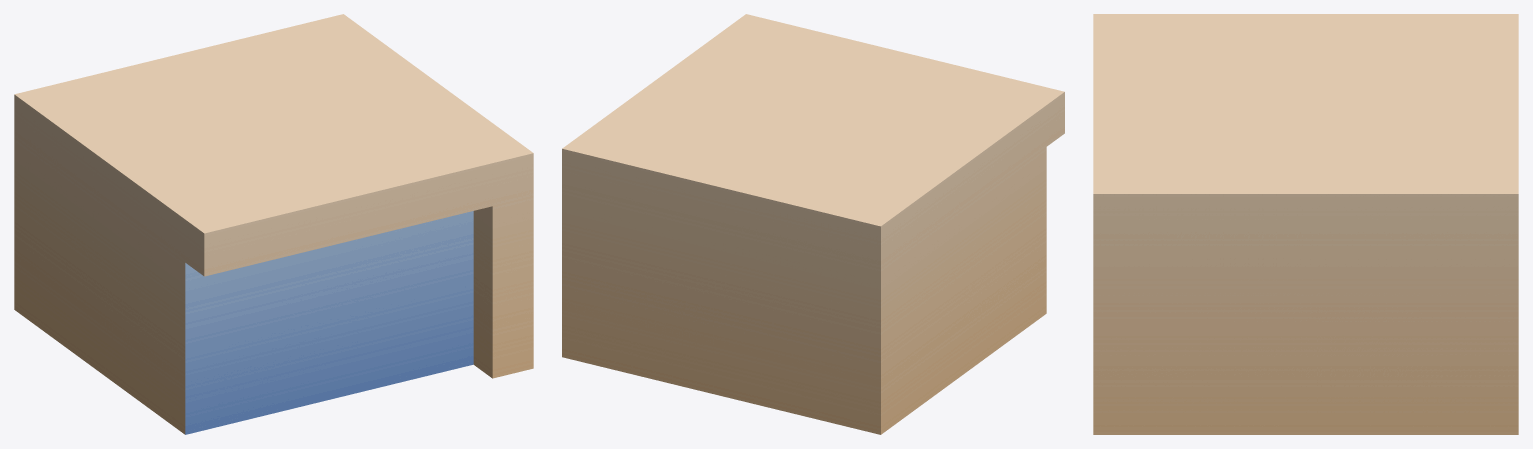
Rendered from building_window_large_right.glb.
3 renders of one model, left to right at view 1: azimuth 30°, elevation 25°; view 2: azimuth 150°, elevation 25°; view 3: azimuth 270°, elevation 25°, orthographic. The views are drawn at different scales.
Visible parts, largest first — view 1: building-window-large-right; view 2: building-window-large-right; view 3: building-window-large-right.
Boxes of the visible parts, x1,y1,x2,y2 form: building-window-large-right: (14,14,533,434); building-window-large-right: (562,14,1064,434); building-window-large-right: (1093,14,1518,434).
Bounding box in the file's own units: 1 × 0.625 × 1.
1 material, 1 textured.
